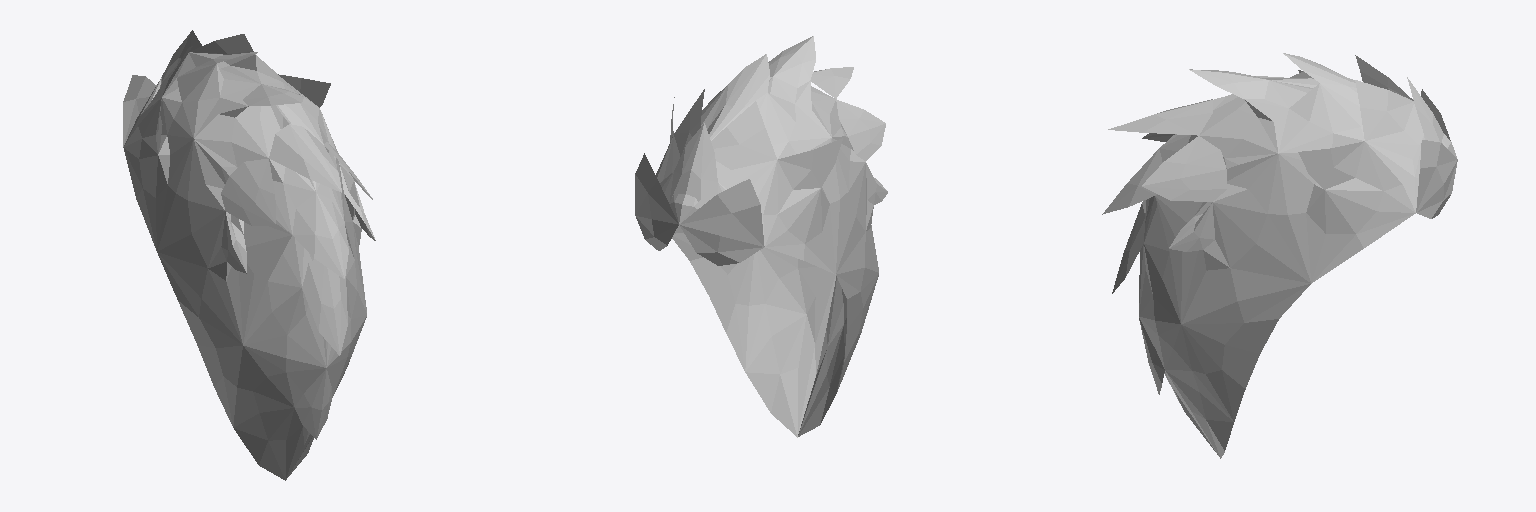
File: night.obj
The picture shows the model from 3 angles: view 1: azimuth 30°, elevation 25°; view 2: azimuth 150°, elevation 25°; view 3: azimuth 270°, elevation 25°; orthographic projection.
Visible parts, largest first — view 1: Cube.002_Cube.001; view 2: Cube.002_Cube.001; view 3: Cube.002_Cube.001.
Part boxes in pixels (x1,y1,x2,y2): Cube.002_Cube.001: (123, 30, 375, 480); Cube.002_Cube.001: (635, 36, 887, 437); Cube.002_Cube.001: (1102, 53, 1457, 458).
Bounding box in the file's own units: 0.5669 × 1.3 × 1.03.